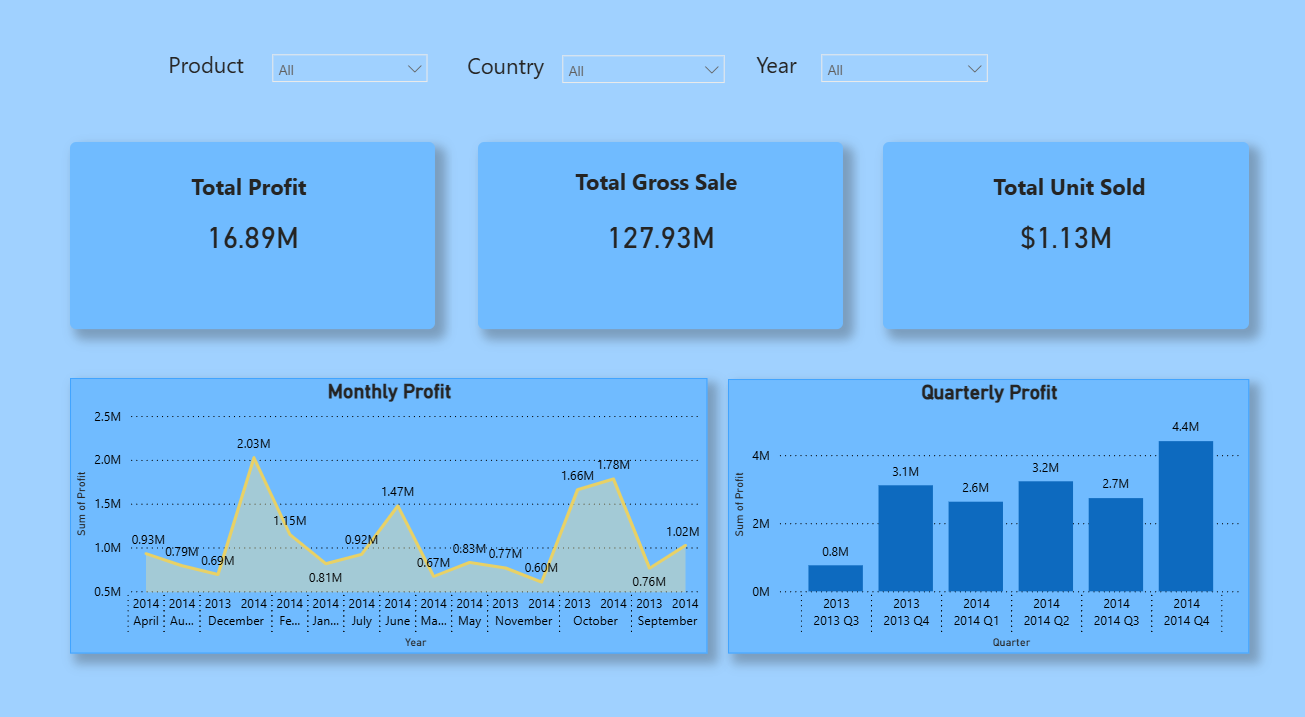

Layout of this report page (visuals, bound fields, positions):
{"tool":"powerbi","page":{"name":"Page 1","canvas":[1280,720],"ordinal":0},"visuals":[{"type":"lineChart","title":"Monthly Profit","fields":{"Category":["financial_data. Month Name ","financial_data.Year"],"Y":["Sum(financial_data. Profit )"]},"box":[72,373.5,619.6,268.4],"z":0},{"type":"columnChart","title":"Quarterly Profit","fields":{"Category":["financial_data.YearQuarter","financial_data.Year"],"Y":["Sum(financial_data. Profit )"]},"box":[712,374.5,506.7,267.5],"z":1000},{"type":"card","title":"Total Profit","fields":{"Values":["Sum(financial_data. Profit )"]},"box":[72,144,355,181.9],"z":2000},{"type":"card","title":"Total Gross Sale","fields":{"Values":["Sum(financial_data. Gross Sales )"]},"box":[468.8,144,355,181.9],"z":3000},{"type":"card","fields":{"Values":["Sum(financial_data. Units Sold )"]},"box":[862.7,144,356,181.9],"z":4000},{"type":"slicer","fields":{"Values":["financial_data. Product "]},"box":[258.7,48.6,171.2,45.7],"z":5000},{"type":"slicer","fields":{"Values":["financial_data.Year"]},"box":[792.7,48.6,181.9,42.8],"z":6000},{"type":"slicer","fields":{"Values":["financial_data.Country"]},"box":[540.8,49.6,178,44.7],"z":7000},{"type":"textbox","box":[162.4,48.6,96.3,45.7],"z":8000},{"type":"textbox","box":[734.3,48.6,58.4,42.8],"z":9000},{"type":"textbox","box":[453.3,49.6,96.3,43.8],"z":10000},{"type":"textbox","box":[964.9,167.3,179.9,43.8],"z":11000},{"type":"textbox","box":[558.3,162.4,184.8,42.8],"z":12000},{"type":"textbox","box":[184.8,167.3,122.6,39.9],"z":13000}]}

Visuals, with their boxes in screenshot pixels (x1, y1, x2, y2), scaled from the page's 1280x720 canvas onto the 1305x717 screenshot:
"Monthly Profit" lineChart: bbox=(73, 372, 705, 639)
"Quarterly Profit" columnChart: bbox=(726, 373, 1243, 639)
"Total Profit" card: bbox=(73, 143, 435, 325)
"Total Gross Sale" card: bbox=(478, 143, 840, 325)
card - Sum(financial_data. Units Sold ): bbox=(880, 143, 1243, 325)
slicer - financial_data. Product : bbox=(264, 48, 438, 94)
slicer - financial_data.Year: bbox=(808, 48, 994, 91)
slicer - financial_data.Country: bbox=(551, 49, 733, 94)
textbox: bbox=(166, 48, 264, 94)
textbox: bbox=(749, 48, 808, 91)
textbox: bbox=(462, 49, 560, 93)
textbox: bbox=(984, 167, 1167, 210)
textbox: bbox=(569, 162, 758, 204)
textbox: bbox=(188, 167, 313, 206)
